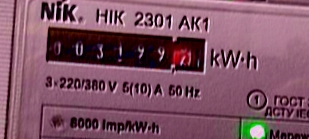0: (47, 36, 61, 55), (70, 36, 82, 55)
1: (112, 36, 122, 55)
3: (92, 40, 101, 59)
6: (175, 51, 185, 68)
9: (153, 43, 163, 61), (133, 40, 142, 58)
screen: (36, 17, 211, 82)
